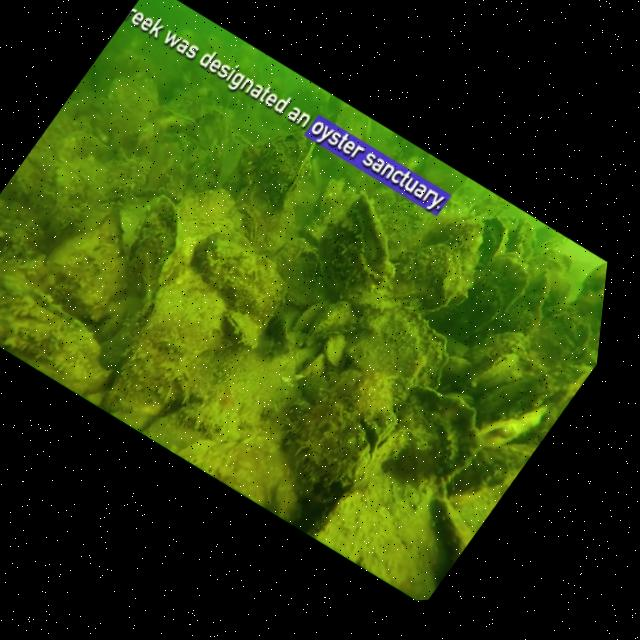Oyster-Closed: (231, 111, 335, 219), (459, 335, 530, 410), (459, 208, 528, 277), (207, 299, 273, 356), (157, 99, 204, 139), (224, 203, 268, 244)
Oyster-Indeterminate: (0, 252, 138, 411), (322, 278, 476, 419), (357, 368, 506, 510), (256, 377, 403, 516), (293, 181, 432, 317), (90, 316, 208, 438), (103, 188, 210, 299), (383, 224, 490, 326), (116, 117, 217, 215), (398, 471, 497, 566), (182, 208, 276, 297), (87, 57, 177, 145), (466, 381, 552, 470), (35, 209, 123, 293), (435, 268, 520, 354), (495, 258, 578, 345), (415, 196, 501, 277), (517, 338, 598, 417), (472, 235, 552, 313), (292, 288, 364, 363), (472, 354, 539, 426), (61, 179, 127, 245), (181, 95, 248, 159), (563, 255, 608, 336), (497, 207, 554, 264), (525, 237, 581, 288), (515, 213, 572, 263), (285, 287, 336, 340), (36, 198, 87, 249), (185, 147, 235, 195), (435, 346, 482, 390)
Oyster-Open: (0, 214, 11, 256)
